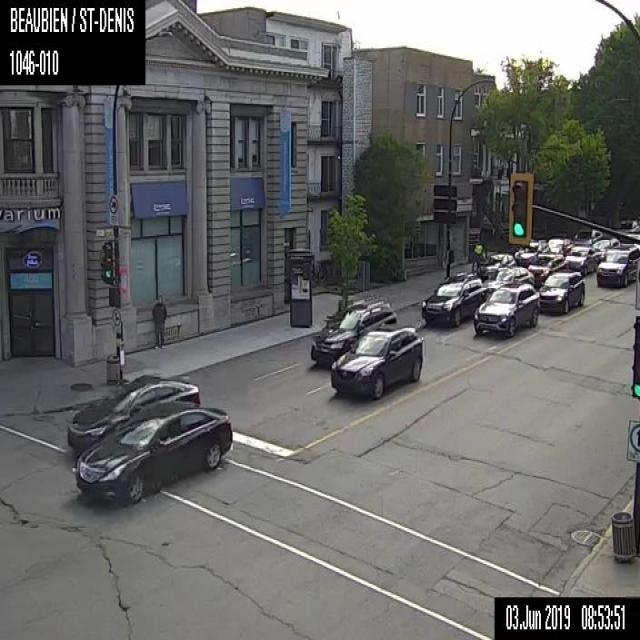pedestrian: (151, 294, 166, 347)
vehicle: (75, 406, 232, 504), (67, 374, 200, 450), (330, 324, 423, 397), (310, 300, 398, 363), (473, 282, 539, 335), (421, 274, 488, 326), (536, 270, 584, 314), (596, 242, 639, 287), (488, 264, 534, 292), (526, 252, 565, 283), (476, 252, 516, 279), (514, 239, 549, 265), (564, 246, 596, 274), (590, 236, 620, 259), (570, 227, 602, 246), (546, 236, 570, 253), (616, 218, 639, 233)
